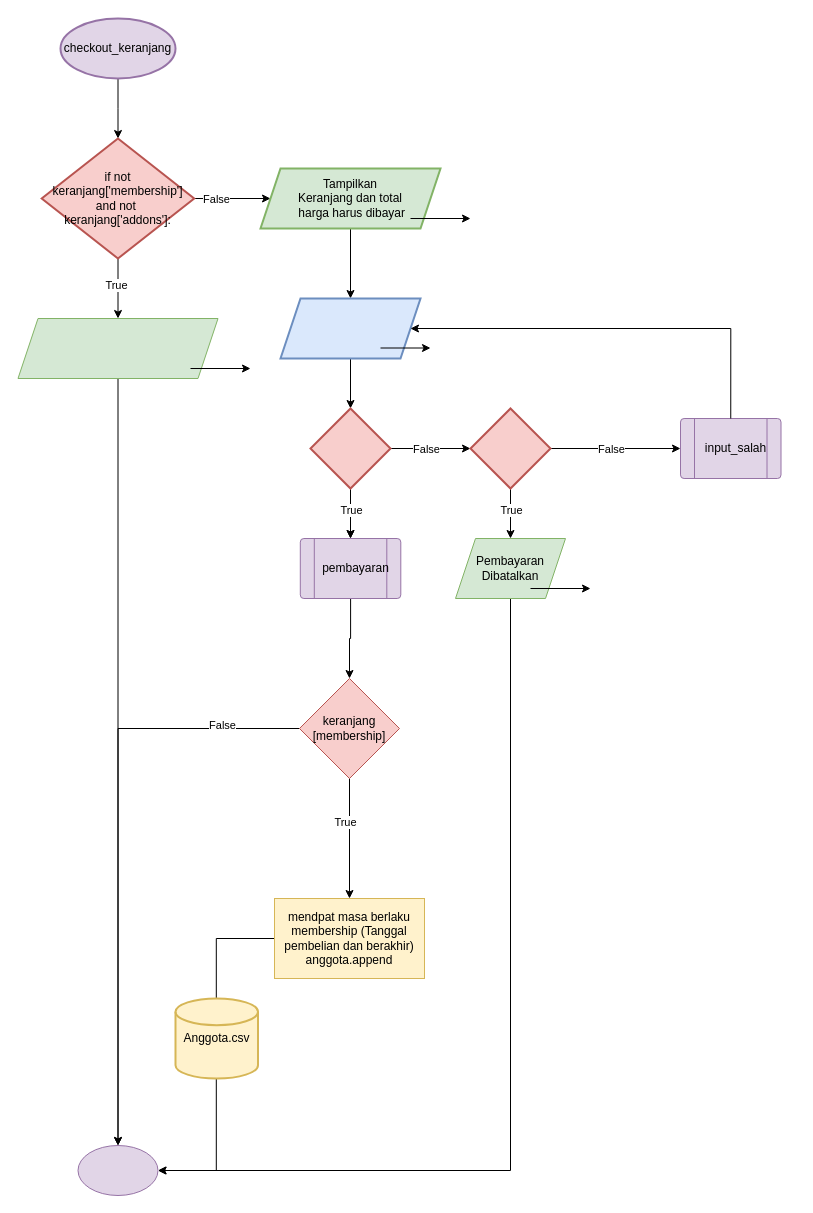
Some shapes in this 813 by 1213 pixel diagram are drawn without their labels. Here are the shapes that lost their labels. From the top down, the box of each, then its label:
(17, 318, 218, 378): Keranjang Anda kosong, silakan memesan produk di GYM kami terlebih dahulu.
(279, 297, 421, 359): Apakah Anda ingin melanjutkan pesanan? (ya/tidak):
(309, 407, 391, 489): pilihan == 'ya'
(469, 407, 551, 489): pilihan == 'tidak'
(77, 1144, 158, 1196): END
